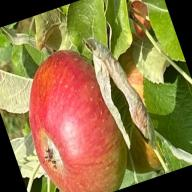Apples: (8, 40, 140, 192), (100, 42, 178, 176), (119, 0, 170, 38)
